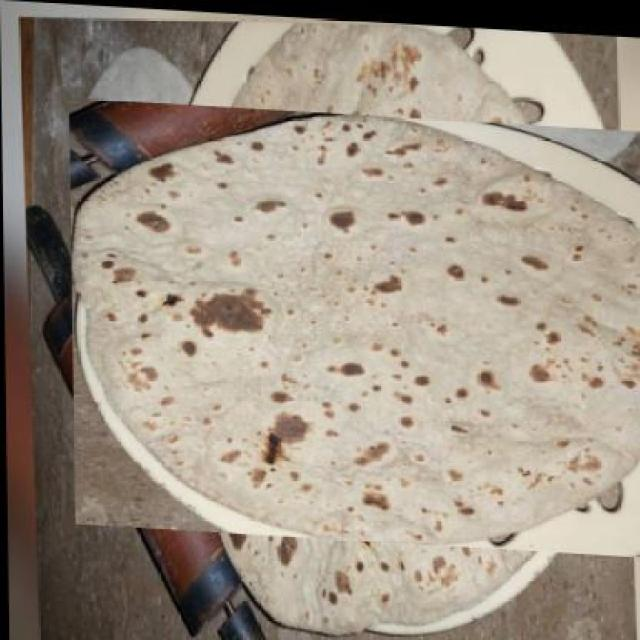chapati: (112, 52, 638, 598)
